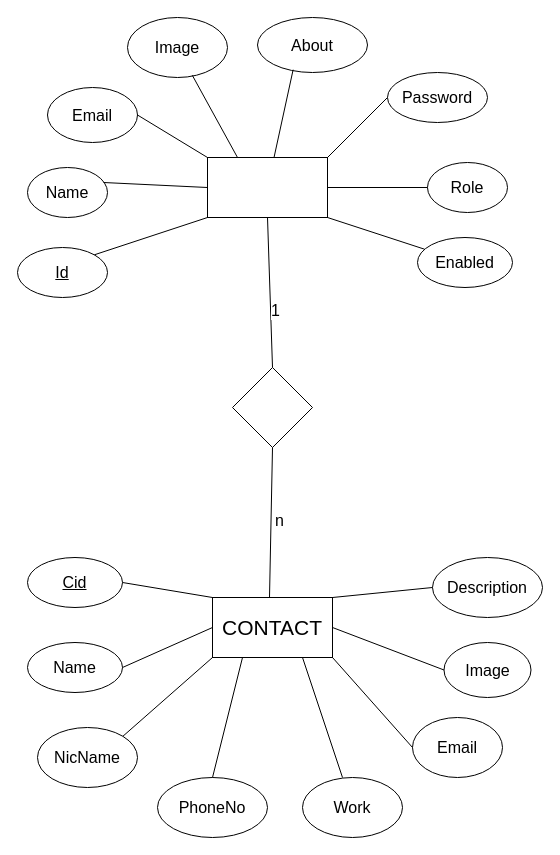
This 560x855 diagram has some shape labels left out. The box of each missing label's shape, as (x1, y1, x2, y2) in pixels:
Has: (232, 366, 312, 448)
USER: (206, 156, 328, 218)
